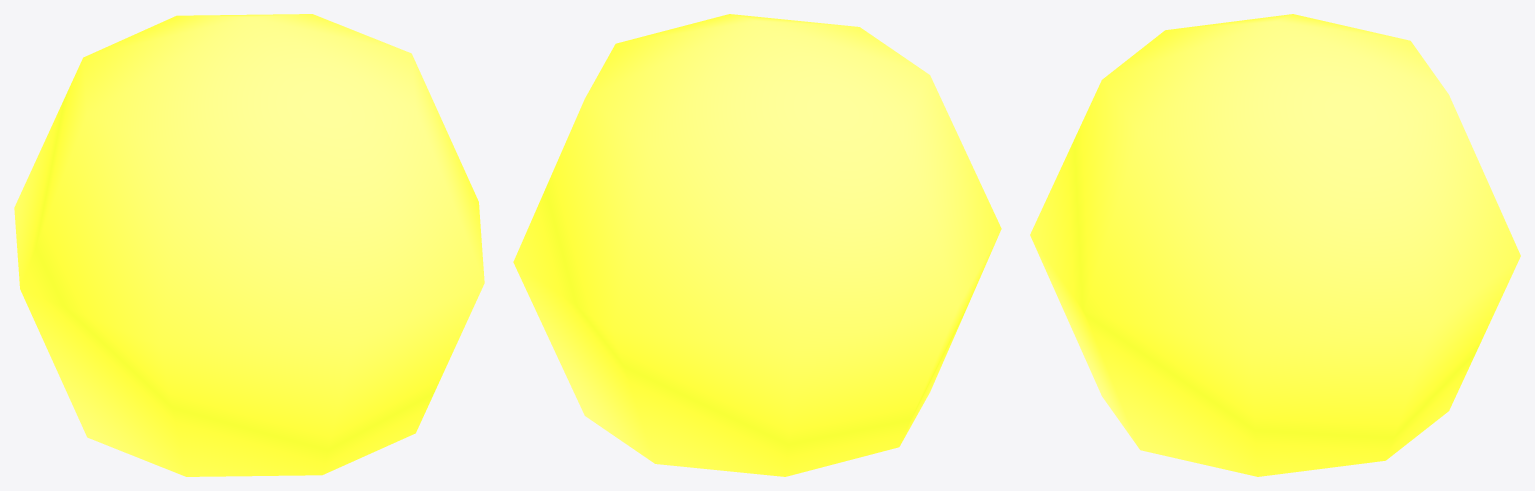
File: Leukoplast.FBX
3 views of the same model, side by side, from view 1: azimuth 30°, elevation 25°; view 2: azimuth 150°, elevation 25°; view 3: azimuth 270°, elevation 25° (orthographic).
Visible parts, largest first — view 1: Leukoplast; view 2: Leukoplast; view 3: Leukoplast.
Boxes of the visible parts, left/top/right/bottom form: Leukoplast: left=14, top=14, right=484, bottom=476; Leukoplast: left=513, top=14, right=1001, bottom=476; Leukoplast: left=1030, top=14, right=1520, bottom=476.
Bounding box in the file's own units: 1.76 × 1.77 × 1.76.
